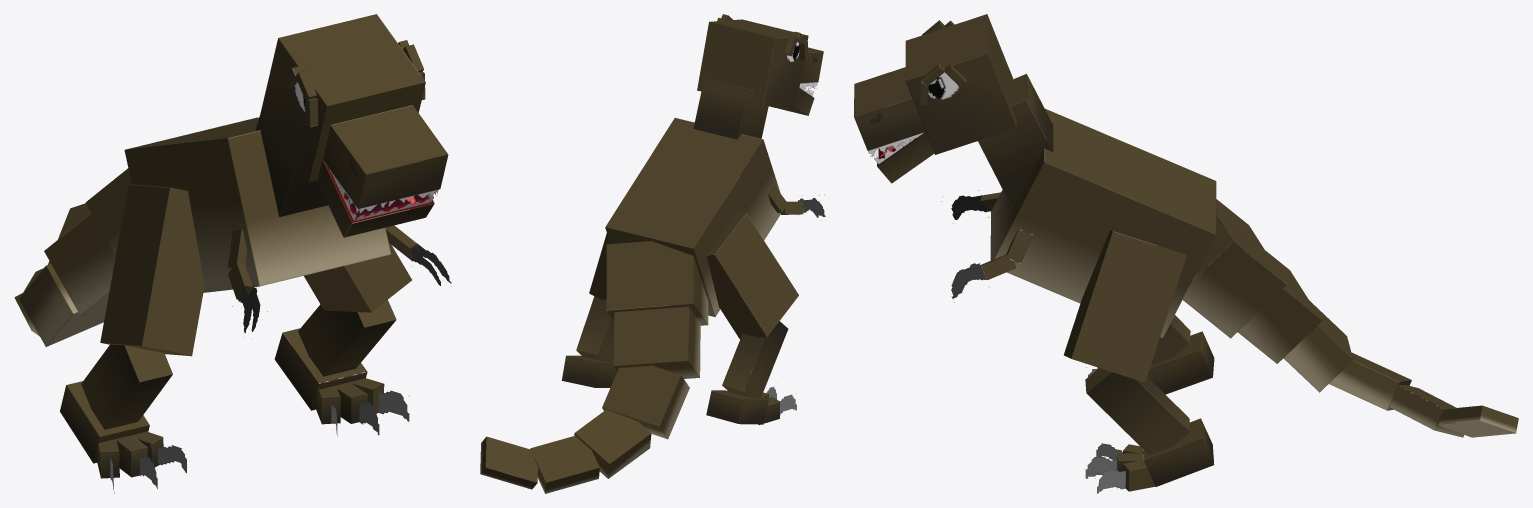
Rendered from animateddinosaur7.obj.
The picture shows the model from 3 angles, left to right: view 1: azimuth 30°, elevation 25°; view 2: azimuth 150°, elevation 25°; view 3: azimuth 270°, elevation 25°; orthographic projection. The views are drawn at different scales.
Visible parts, largest first — view 1: Object_6, Object_64, Object_9, Object_56, Object_12, Object_34, Object_95, Object_31, Object_98, Object_53, Object_79, Object_37 (+14 smaller); view 2: Object_6, Object_9, Object_64, Object_92, Object_95, Object_98, Object_53, Object_101, Object_12, Object_104, Object_107, Object_34 (+5 smaller); view 3: Object_6, Object_31, Object_64, Object_92, Object_34, Object_53, Object_56, Object_95, Object_98, Object_37, Object_15, Object_101 (+5 smaller).
Part boxes in pixels (x1,y1,x2,y2): Object_6: (124, 117, 391, 292); Object_64: (260, 14, 425, 181); Object_9: (100, 184, 204, 356); Object_56: (322, 105, 448, 208); Object_12: (81, 344, 172, 429); Object_34: (298, 300, 396, 376); Object_95: (44, 213, 115, 315); Object_31: (304, 243, 411, 312); Object_98: (18, 263, 106, 346); Object_53: (255, 114, 328, 216); Object_79: (317, 160, 434, 237); Object_37: (274, 328, 367, 410); Object_6: (605, 117, 780, 316); Object_9: (706, 213, 798, 338); Object_64: (697, 19, 808, 106); Object_92: (606, 241, 708, 325); Object_95: (613, 306, 700, 378); Object_98: (602, 365, 689, 439); Object_53: (693, 79, 768, 139); Object_101: (574, 409, 651, 478); Object_12: (722, 321, 788, 397); Object_104: (530, 435, 599, 493); Object_107: (480, 436, 537, 489); Object_34: (576, 296, 613, 361); Object_6: (990, 108, 1216, 338); Object_31: (1064, 230, 1186, 382); Object_64: (905, 14, 1016, 154); Object_92: (1182, 199, 1286, 338); Object_34: (1085, 368, 1190, 455); Object_53: (978, 74, 1053, 208); Object_56: (854, 67, 925, 150); Object_95: (1238, 250, 1321, 363); Object_98: (1283, 300, 1353, 392); Object_37: (1143, 418, 1214, 486); Object_15: (1147, 331, 1214, 394); Object_101: (1329, 352, 1411, 410).
Bounding box in the file's own units: 2.25 × 3.5 × 5.25.
